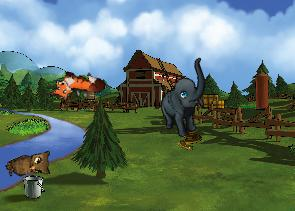elephant: (148, 57, 223, 141)
fox: (48, 66, 106, 112)
owl: (3, 145, 57, 189)
